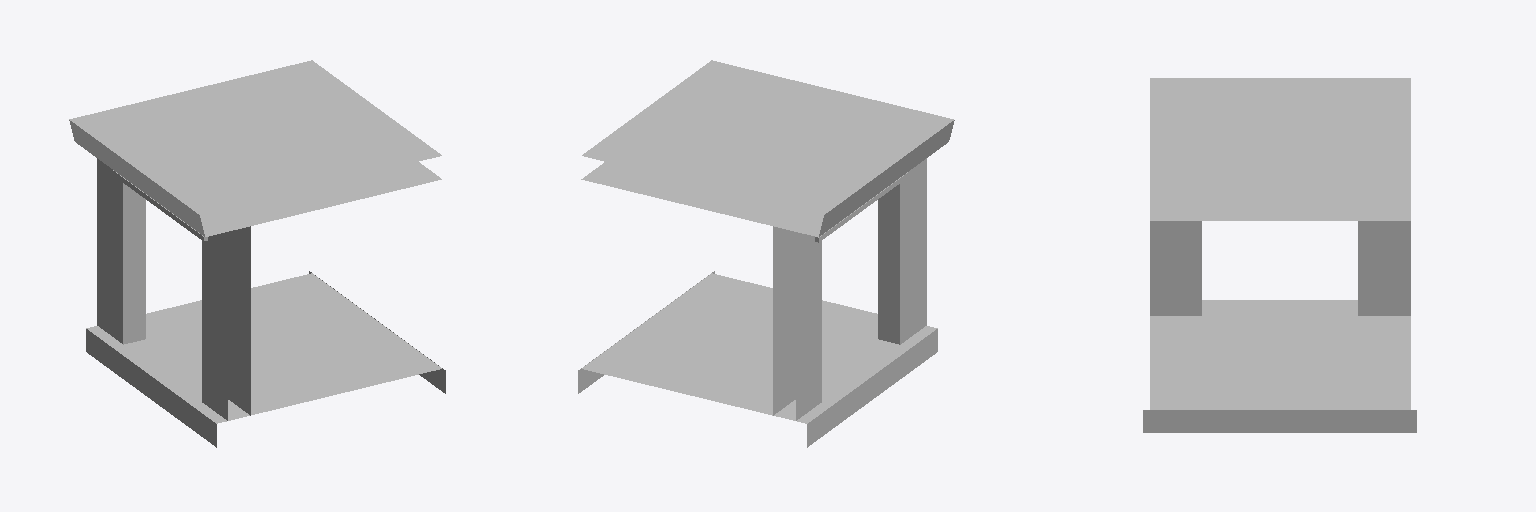
The picture shows the model from 3 angles: view 1: azimuth 30°, elevation 25°; view 2: azimuth 150°, elevation 25°; view 3: azimuth 270°, elevation 25°; orthographic projection.
Visible parts, largest first — view 1: objobjobjDuplicate422b; view 2: objobjobjDuplicate422b; view 3: objobjobjDuplicate422b.
Part boxes in pixels (bbox=[...]): objobjobjDuplicate422b: bbox=[69, 60, 445, 447]; objobjobjDuplicate422b: bbox=[578, 60, 954, 447]; objobjobjDuplicate422b: bbox=[1143, 78, 1416, 432].
Size of the model in its own units: 10.75 by 10 by 10.5.